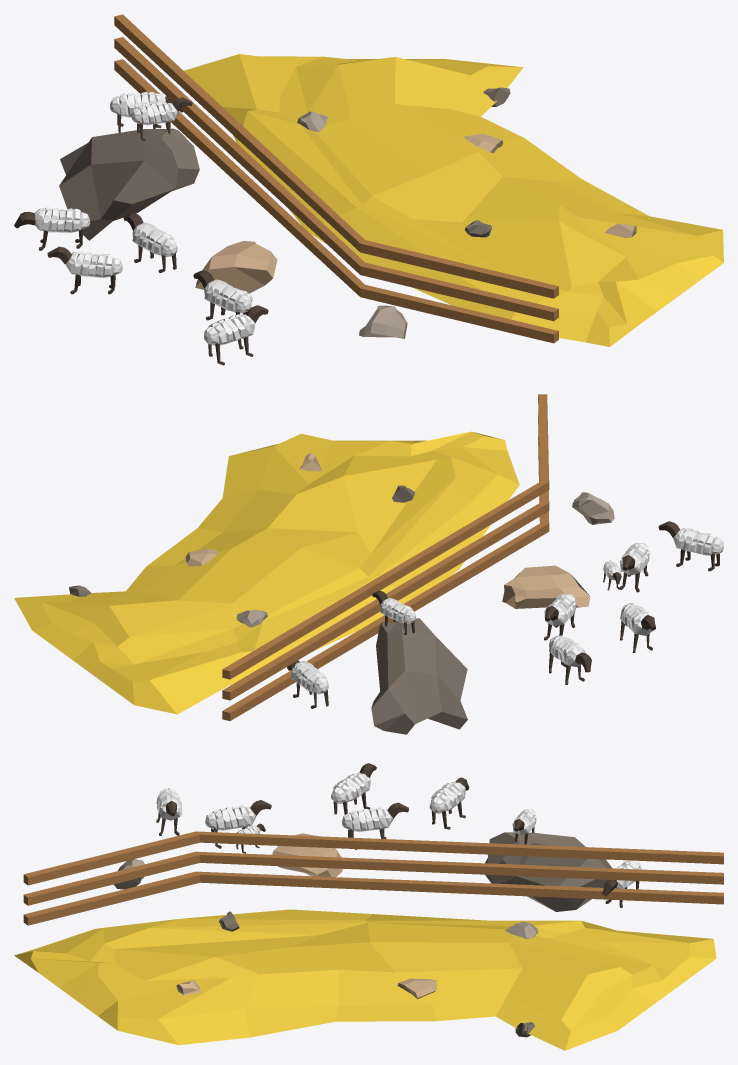
The model's file is street4_02_4.fbx.
3 views of the same model, one above another, from view 1: azimuth 30°, elevation 25°; view 2: azimuth 150°, elevation 25°; view 3: azimuth 270°, elevation 25° (orthographic). The views are drawn at different scales.
Parts seen in each view (by area): view 1: sandWay02x04, fence, stones.025, stones.024, sheep.002, sheep.004, sheep.010, sheep.006, sheep, stones.023, sheep.003, sheep.009; view 2: sandWay02x04, fence, stones.025, stones.024, sheep.004, sheep.010, sheep.009, sheep.002, sheep.006, stones.023, sheep, sheep.003; view 3: sandWay02x04, fence, stones.025, sheep.006, sheep, sheep.002, stones.024, sheep.010, sheep.004, stones.028, sheep.009, sheep.003.
Boxes of the visible parts, left/top/right/bottom form: sandWay02x04: left=184, top=54, right=723, bottom=346; fence: left=114, top=14, right=558, bottom=343; stones.025: left=59, top=128, right=199, bottom=240; stones.024: left=195, top=241, right=277, bottom=293; sheep.002: left=47, top=246, right=122, bottom=294; sheep.004: left=204, top=305, right=268, bottom=365; sheep.010: left=14, top=207, right=90, bottom=250; sheep.006: left=123, top=212, right=177, bottom=272; sheep: left=193, top=270, right=251, bottom=320; stones.023: left=359, top=305, right=407, bottom=338; sheep.003: left=131, top=97, right=192, bottom=140; sheep.009: left=110, top=91, right=183, bottom=132; sandWay02x04: left=14, top=431, right=519, bottom=714; fence: left=222, top=394, right=549, bottom=720; stones.025: left=371, top=618, right=467, bottom=734; stones.024: left=502, top=565, right=590, bottom=608; sheep.004: left=658, top=521, right=723, bottom=571; sheep.010: left=549, top=635, right=591, bottom=684; sheep.009: left=287, top=660, right=328, bottom=708; sheep.002: left=620, top=603, right=655, bottom=652; sheep.006: left=544, top=593, right=576, bottom=640; stones.023: left=572, top=492, right=614, bottom=524; sheep: left=619, top=542, right=649, bottom=592; sheep.003: left=372, top=590, right=415, bottom=635; sandWay02x04: left=14, top=909, right=716, bottom=1050; fence: left=23, top=831, right=723, bottom=925; stones.025: left=485, top=832, right=611, bottom=911; sheep.006: left=342, top=802, right=408, bottom=849; sheep: left=205, top=800, right=271, bottom=848; sheep.002: left=331, top=763, right=376, bottom=814; stones.024: left=272, top=833, right=342, bottom=877; sheep.010: left=429, top=777, right=469, bottom=829; sheep.004: left=156, top=788, right=182, bottom=835; stones.028: left=397, top=978, right=437, bottom=998; sheep.009: left=602, top=860, right=641, bottom=907; sheep.003: left=512, top=809, right=536, bottom=844.
Size of the model in its own units: 85.64 by 17.87 by 101.
